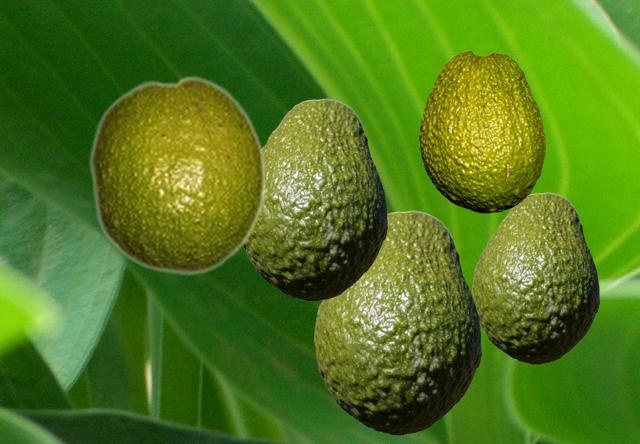avocado: (314, 210, 480, 434), (88, 74, 266, 276), (243, 98, 386, 300), (472, 192, 598, 363), (419, 50, 544, 212)
